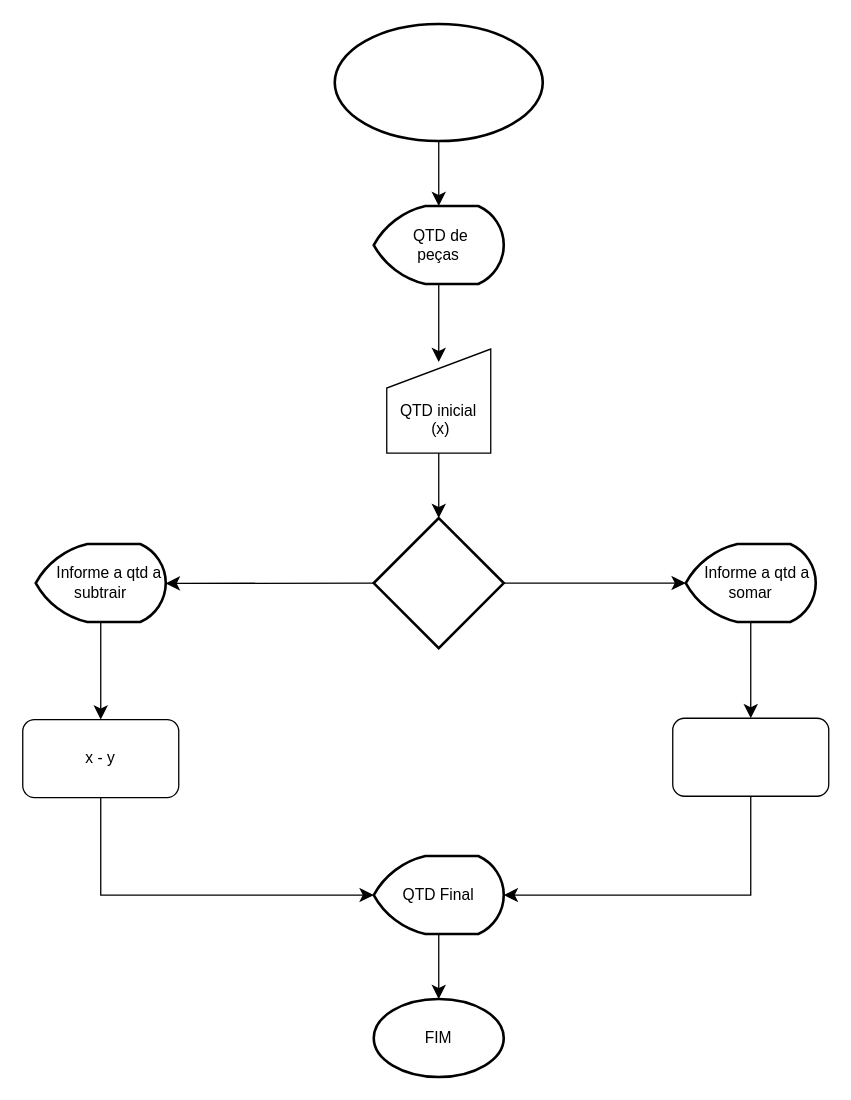
Some shapes in this 851 by 1100 pixel diagram are drawn without their labels. Here are the shapes that lost their labels. From the top down, the centre of each, then its label:
At (438,82): "INÍCIO".
At (438,582): "Deseja subtrair/somar peças?".
At (750,756): "x + y".
